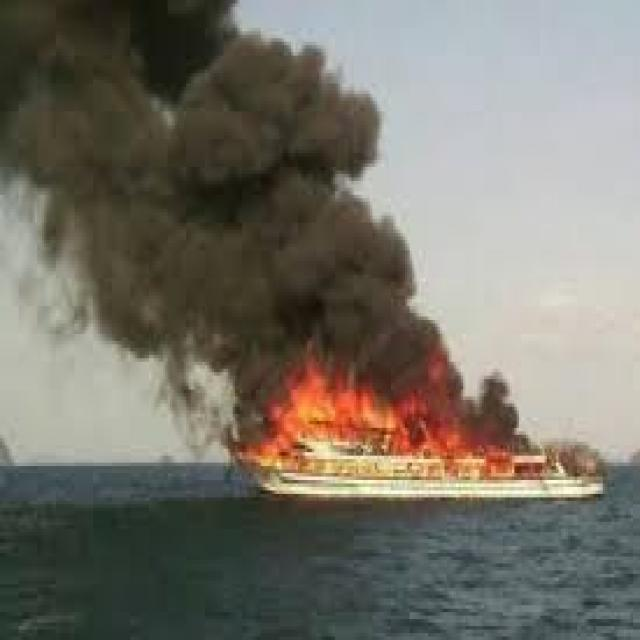fire: (242, 369, 472, 480)
smoke: (2, 3, 470, 400), (477, 368, 547, 448)
